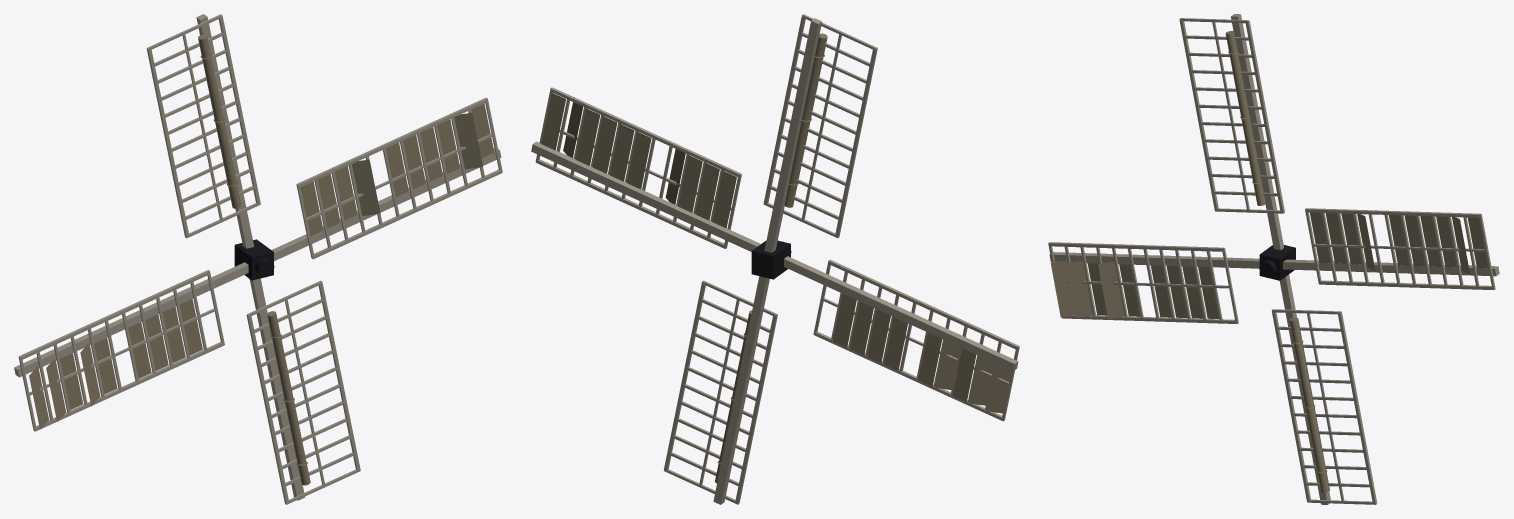
The model's file is hg-windmill-sails.glb.
The picture shows the model from 3 angles, left to right: view 1: azimuth 30°, elevation 25°; view 2: azimuth 150°, elevation 25°; view 3: azimuth 330°, elevation 25°; orthographic projection. The views are drawn at different scales.
Parts seen in each view (by area): view 1: hg-windmill-sails; view 2: hg-windmill-sails; view 3: hg-windmill-sails.
Boxes of the visible parts, left/top/right/bottom form: hg-windmill-sails: left=14, top=14, right=502, bottom=504; hg-windmill-sails: left=531, top=14, right=1019, bottom=504; hg-windmill-sails: left=1048, top=14, right=1499, bottom=504.
Size of the model in its own units: 9.63 by 9.63 by 0.7201.
